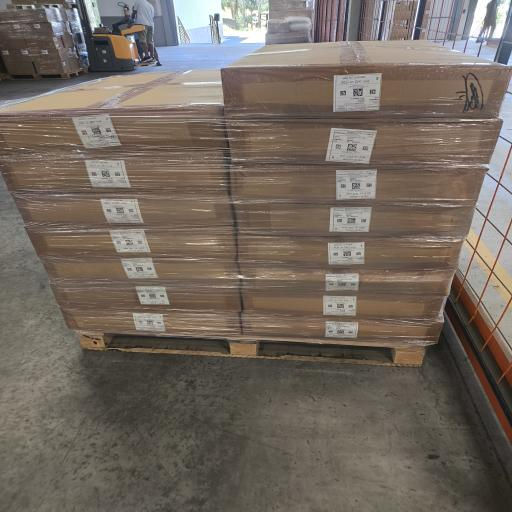pallet: (77, 332, 425, 367), (0, 69, 88, 80)
